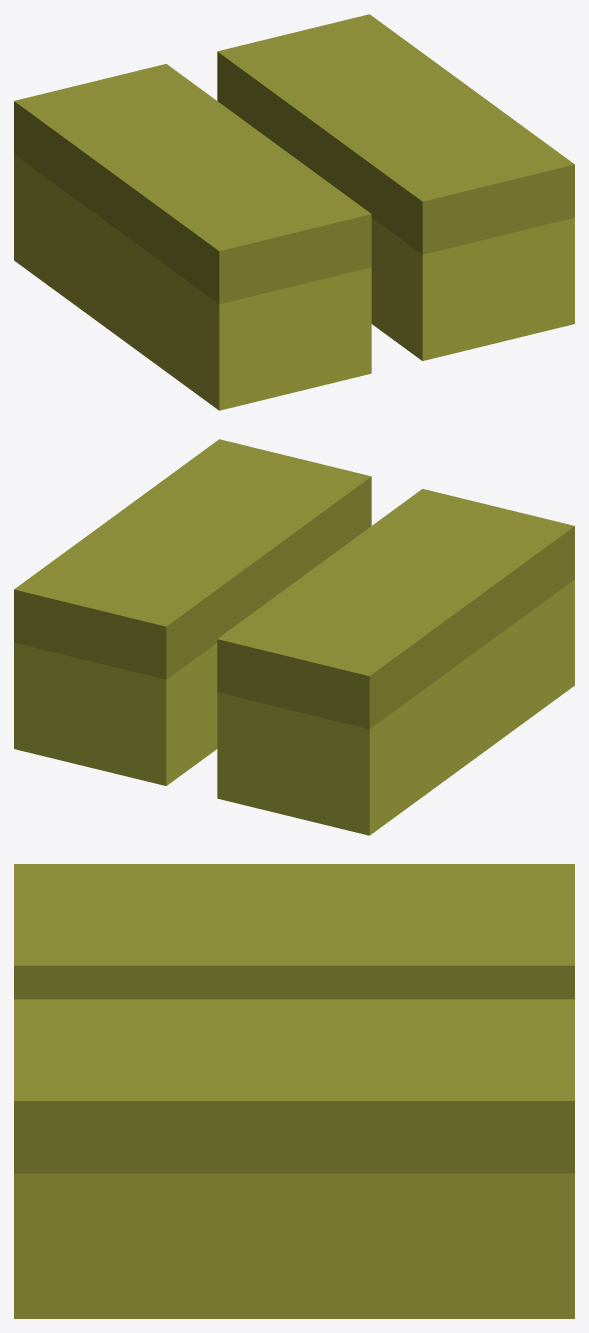
Rendered from legendario_manos_trasgo_01.glb.
The picture shows the model from 3 angles, top to bottom: view 1: azimuth 30°, elevation 25°; view 2: azimuth 150°, elevation 25°; view 3: azimuth 270°, elevation 25°; orthographic projection. The views are drawn at different scales.
Parts seen in each view (by area): view 1: legendario_manos_trasgo; view 2: legendario_manos_trasgo; view 3: legendario_manos_trasgo.
Boxes of the visible parts, bbox=[...] form: legendario_manos_trasgo: bbox=[14, 14, 574, 410]; legendario_manos_trasgo: bbox=[14, 439, 574, 835]; legendario_manos_trasgo: bbox=[14, 864, 574, 1318].
Bounding box in the file's own units: 0.5833 × 0.25 × 0.5833.
